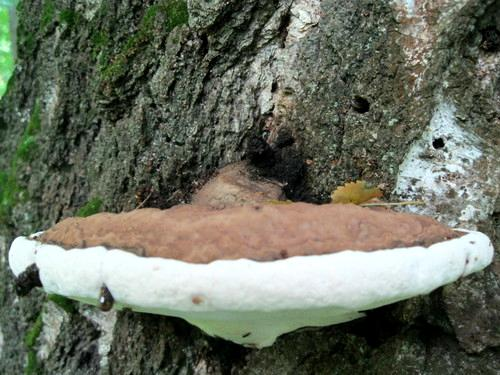Ganoderma - Fruit Body: (8, 185, 494, 350)
